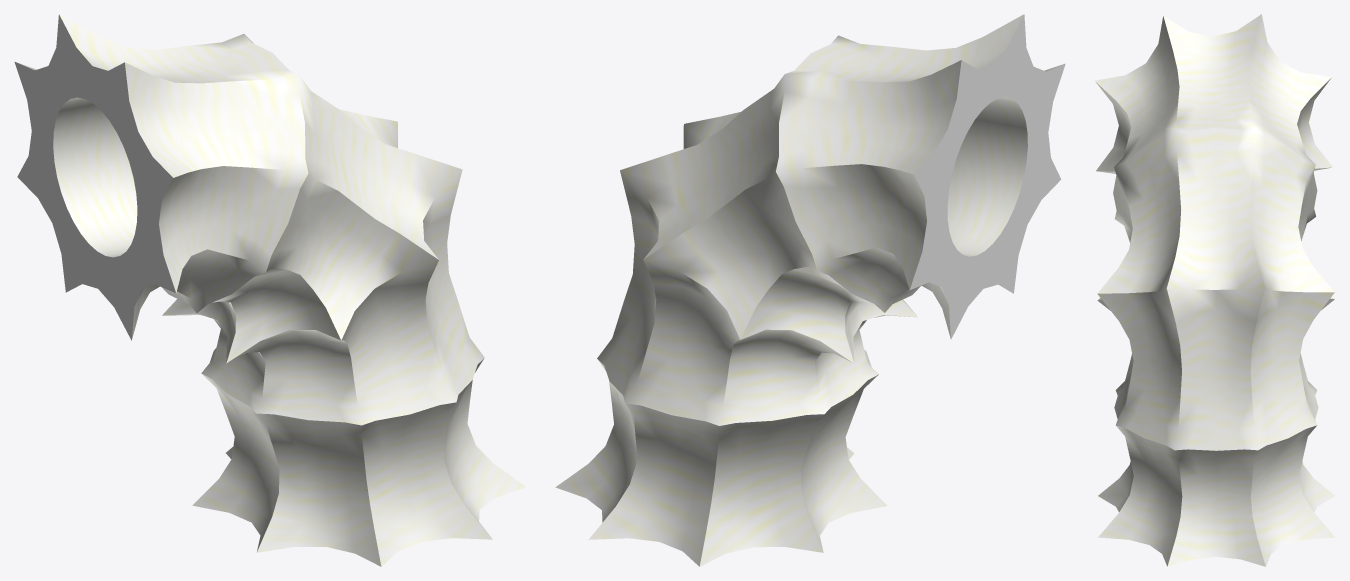
Rendered from Stone_001.glb.
The picture shows the model from 3 angles, left to right: view 1: azimuth 30°, elevation 25°; view 2: azimuth 150°, elevation 25°; view 3: azimuth 270°, elevation 25°; orthographic projection. The views are drawn at different scales.
Parts seen in each view (by area): view 1: Stone.001; view 2: Stone.001; view 3: Stone.001.
Part boxes in pixels (x1,y1,x2,y2): Stone.001: [14, 14, 525, 566]; Stone.001: [555, 14, 1065, 566]; Stone.001: [1095, 14, 1334, 566].
Size of the model in its own units: 31.91 by 39.58 by 21.51.
Materials: 1 (1 with a texture image).
